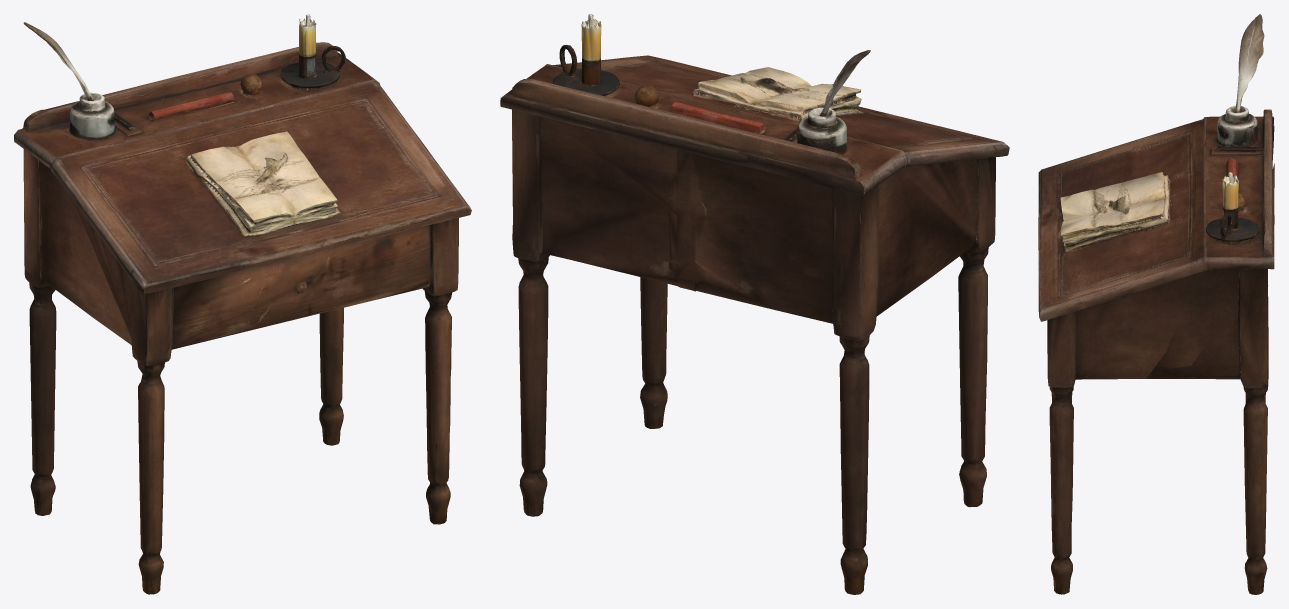
File: court-sealing-desk.glb
3 renders of one model, left to right at view 1: azimuth 30°, elevation 25°; view 2: azimuth 150°, elevation 25°; view 3: azimuth 270°, elevation 25°, orthographic. The views are drawn at different scales.
Visible parts, largest first — view 1: Mesh_0; view 2: Mesh_0; view 3: Mesh_0.
Part boxes in pixels (x1,y1,x2,y2): Mesh_0: [14, 14, 471, 594]; Mesh_0: [500, 14, 1009, 594]; Mesh_0: [1038, 14, 1274, 594].
Size of the model in its own units: 1.33 by 1.9 by 0.915.
1 material, 1 textured.
